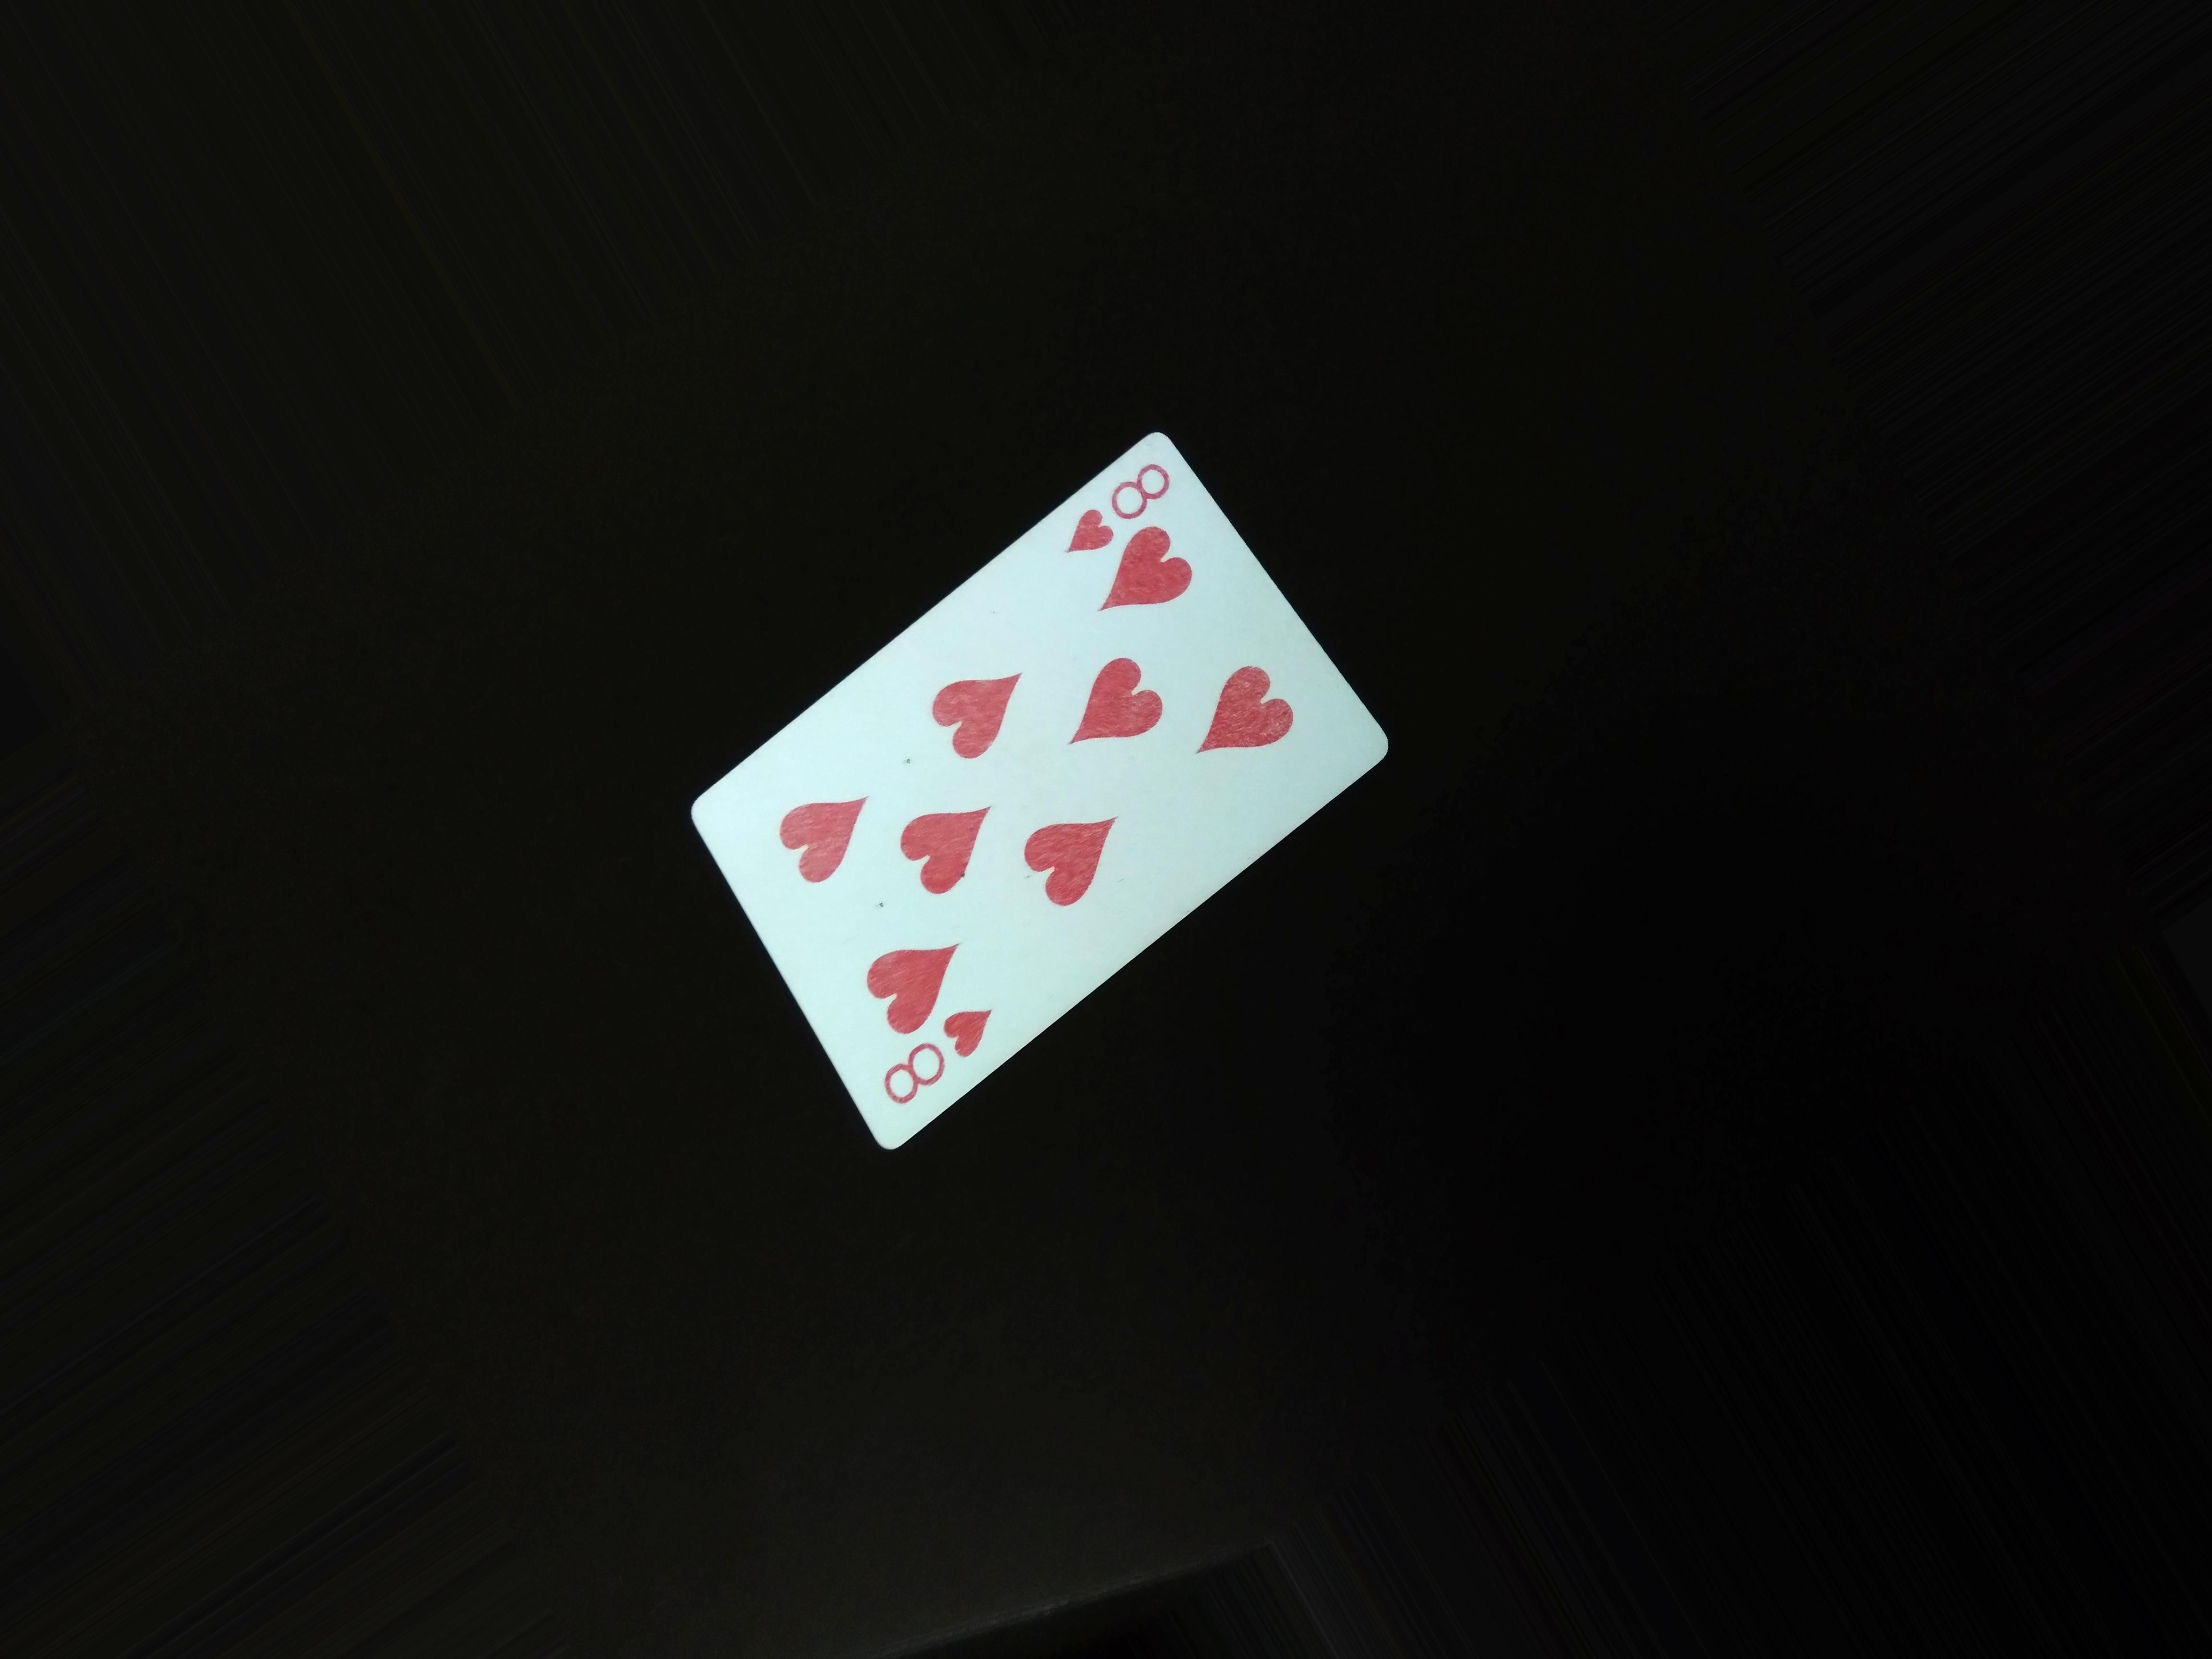8H: (1068, 455, 1170, 565)
